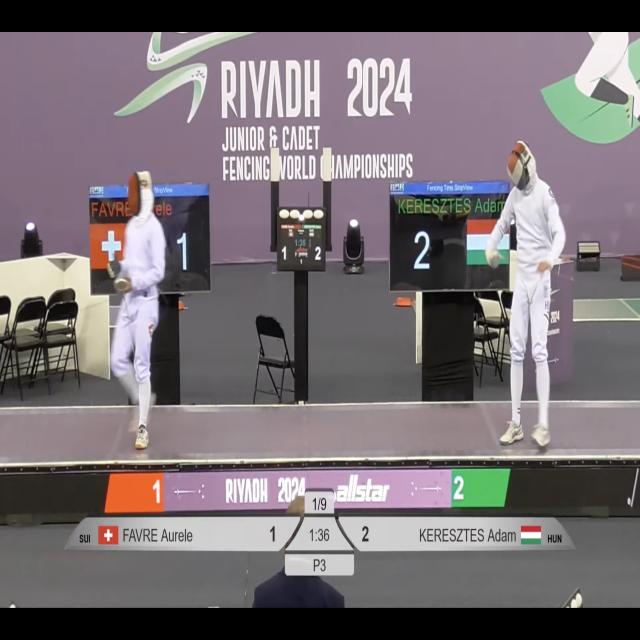fencer: (487, 135, 561, 451), (106, 165, 173, 455)
overlayLeft: (60, 511, 242, 551)
overlayRight: (380, 516, 575, 551)
scoreLeft: (248, 514, 305, 550)
scoreRight: (335, 519, 377, 550)
